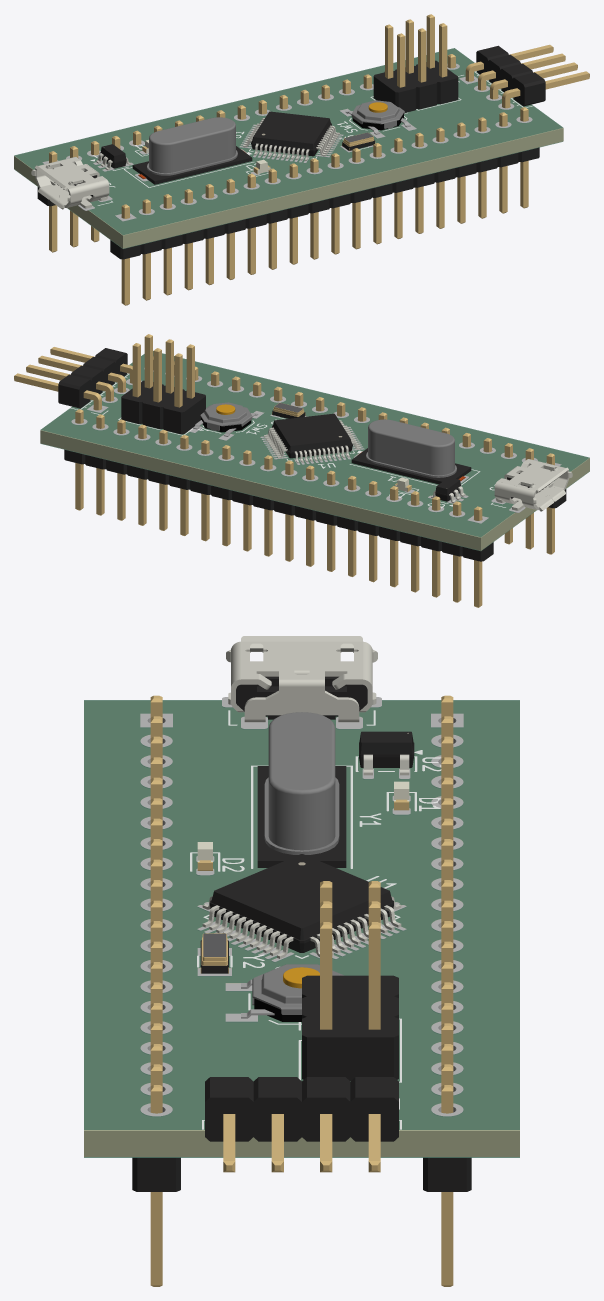
Rendered from stm32-blue-pill-f103.glb.
3 renders of one model, top to bottom at view 1: azimuth 30°, elevation 25°; view 2: azimuth 150°, elevation 25°; view 3: azimuth 270°, elevation 25°, orthographic. The views are drawn at different scales.
Visible parts, largest first — view 1: =>[0:1:1:27], =>[0:1:1:25], J2, J4, Y1, J5, U1, =>[0:1:1:22], J3, J1, SW1, =>[0:1:1:23] (+3 smaller); view 2: =>[0:1:1:27], =>[0:1:1:25], J1, J4, Y1, J5, U1, =>[0:1:1:22], J3, J2, SW1, =>[0:1:1:23] (+3 smaller); view 3: =>[0:1:1:27], =>[0:1:1:25], J5, J4, Y1, U1, =>[0:1:1:22], J3, J2, J1, SW1, =>[0:1:1:23] (+2 smaller).
Part boxes in pixels (left/top/right/bottom): =>[0:1:1:27]: left=14, top=49, right=563, bottom=248; =>[0:1:1:25]: left=14, top=48, right=563, bottom=235; J2: left=110, top=107, right=539, bottom=305; J4: left=373, top=14, right=458, bottom=112; Y1: left=132, top=117, right=252, bottom=184; J5: left=465, top=44, right=589, bottom=108; U1: left=243, top=111, right=339, bottom=160; =>[0:1:1:22]: left=42, top=63, right=532, bottom=221; J3: left=31, top=157, right=109, bottom=209; J1: left=37, top=54, right=455, bottom=252; SW1: left=345, top=100, right=410, bottom=134; =>[0:1:1:23]: left=90, top=71, right=533, bottom=205; =>[0:1:1:27]: left=40, top=354, right=589, bottom=550; =>[0:1:1:25]: left=40, top=351, right=589, bottom=537; J1: left=64, top=409, right=493, bottom=607; J4: left=121, top=334, right=205, bottom=434; Y1: left=351, top=419, right=471, bottom=484; J5: left=14, top=347, right=132, bottom=410; U1: left=264, top=413, right=360, bottom=463; =>[0:1:1:22]: left=71, top=368, right=561, bottom=523; J3: left=494, top=459, right=572, bottom=511; J2: left=153, top=356, right=566, bottom=554; SW1: left=193, top=402, right=258, bottom=436; =>[0:1:1:23]: left=70, top=373, right=505, bottom=508; =>[0:1:1:27]: left=84, top=701, right=519, bottom=1156; =>[0:1:1:25]: left=84, top=700, right=519, bottom=1129; J5: left=205, top=1077, right=398, bottom=1172; J4: left=302, top=881, right=398, bottom=1080; Y1: left=257, top=712, right=346, bottom=867; U1: left=202, top=854, right=401, bottom=958; =>[0:1:1:22]: left=140, top=697, right=463, bottom=1116; J3: left=226, top=636, right=377, bottom=722; J2: left=132, top=695, right=180, bottom=1286; J1: left=423, top=695, right=471, bottom=1286; SW1: left=241, top=964, right=343, bottom=1021; =>[0:1:1:23]: left=190, top=710, right=441, bottom=1129.
Bounding box in the file's own units: 0.0632 × 0.0188 × 0.0229.
